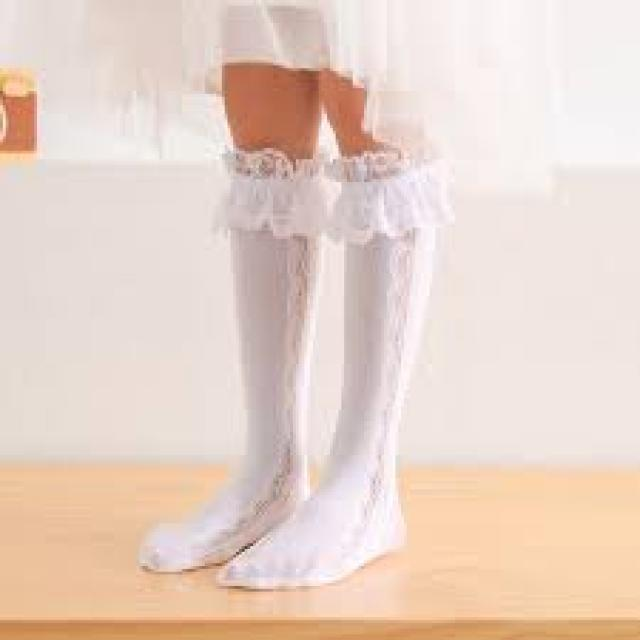sock: (115, 124, 320, 561), (302, 84, 480, 582), (190, 531, 216, 534)
